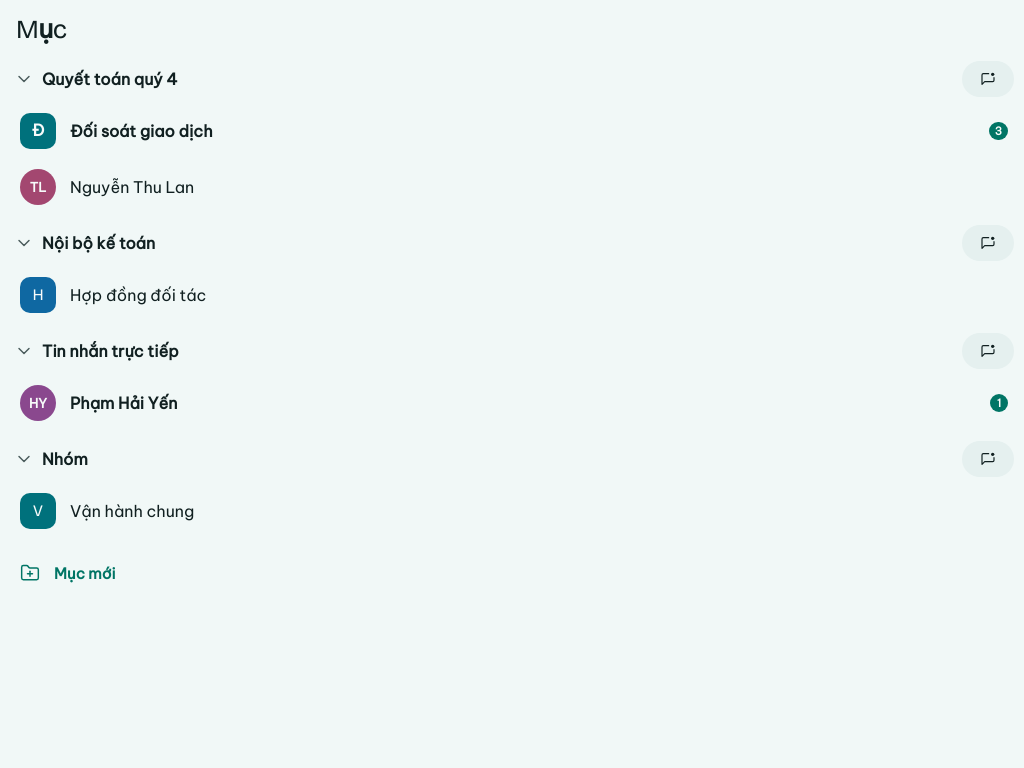
the menu of a section on a phone › deletes and offers Hoàn tác
This screenshot has width=1024, height=768.
expect the list named "Quyết toán quý 4" is shown: met, box x1=0 y1=103 x2=1023 y2=215
Press the mouse on the element showing "Quyết toán quý 4" at (512, 77), box x1=0 y1=51 x2=1023 y2=103
Wait 401 ms
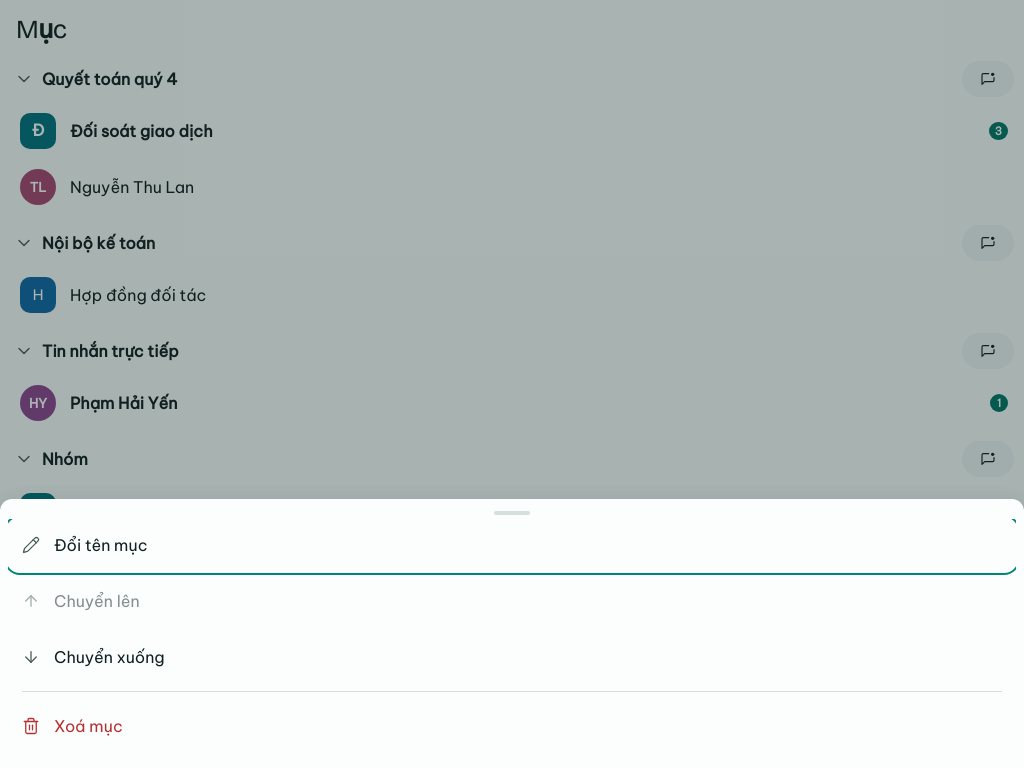
Click the button "Xoá mục" at (88, 726), box x1=8 y1=700 x2=1016 y2=752
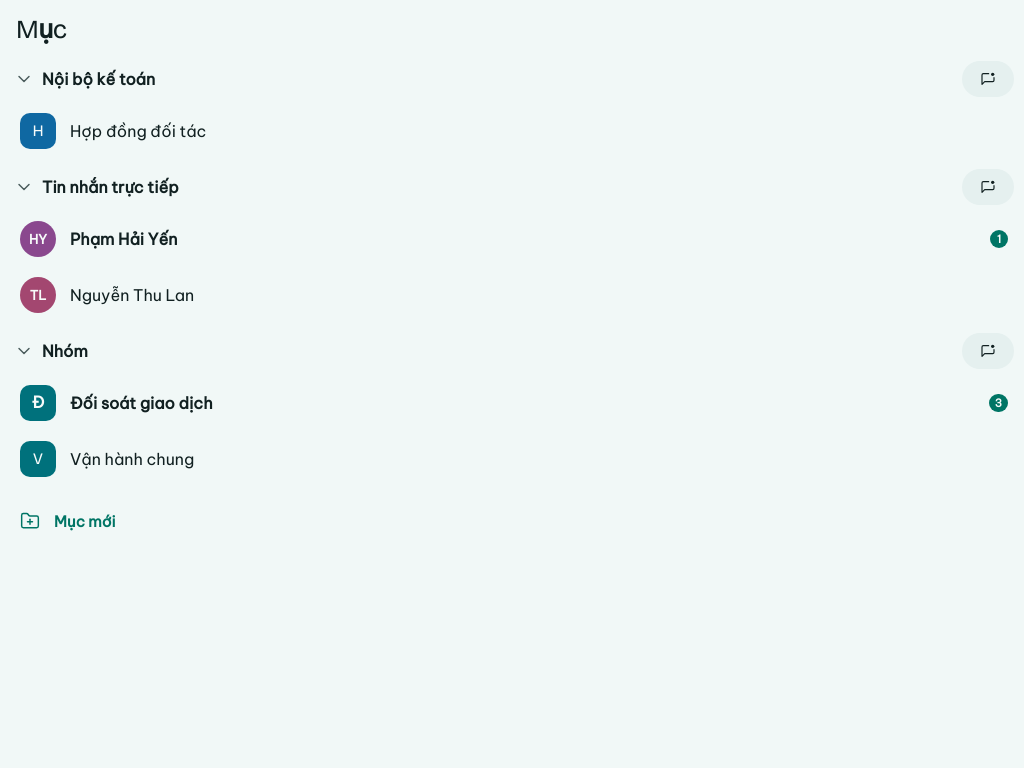
expect the button "Quyết toán quý 4" is gone: met
